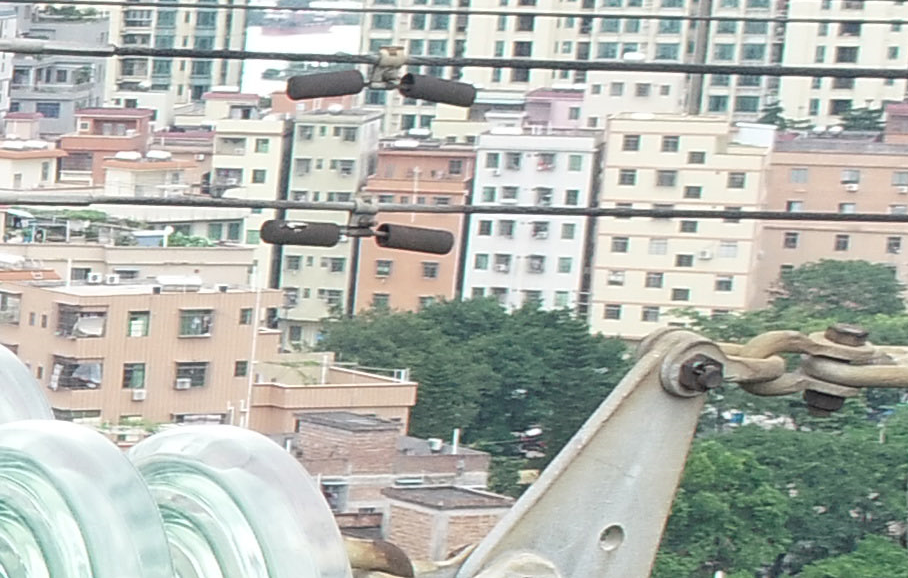damper: (278, 43, 477, 106), (259, 197, 456, 256)
